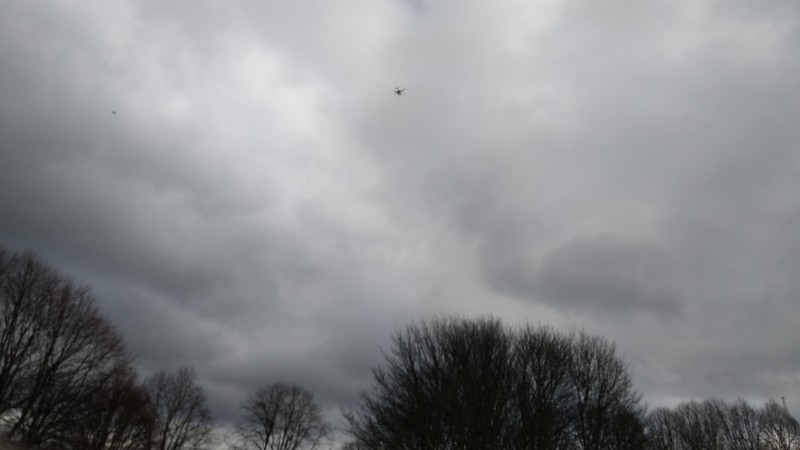drone: (393, 88, 407, 97)
